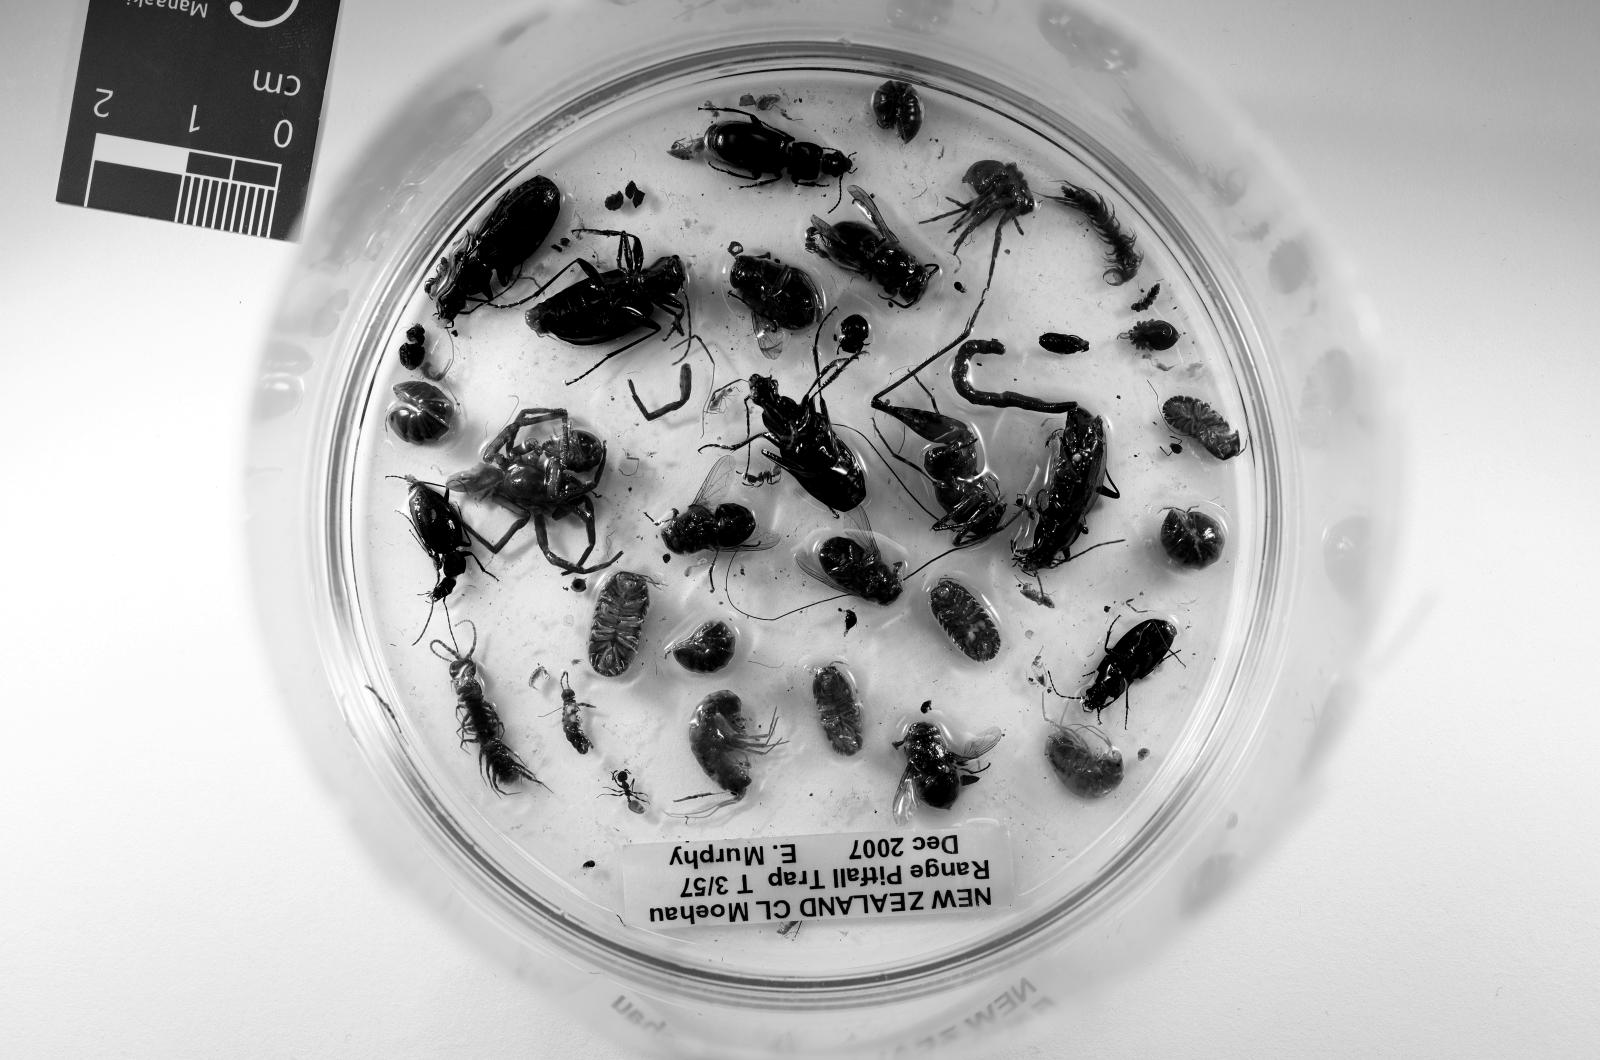acari: (582, 860, 597, 870), (953, 283, 966, 292)
amphipoda: (691, 690, 782, 816), (1047, 726, 1122, 799)
annelida: (950, 342, 1078, 413)
araneae: (447, 407, 618, 575), (950, 159, 1037, 289)
carabidae: (731, 348, 866, 512), (525, 230, 687, 360), (432, 177, 559, 329), (1016, 407, 1119, 575), (704, 111, 853, 187), (1084, 618, 1175, 717), (400, 481, 472, 606)
chilopoda: (428, 621, 544, 795), (1054, 180, 1144, 286)
coleoptera: (835, 314, 869, 354), (397, 323, 425, 369), (1037, 332, 1090, 354), (843, 612, 856, 631)
collembola: (1018, 584, 1056, 608), (669, 137, 704, 159), (706, 386, 731, 413), (529, 665, 546, 686)
diptera: (660, 457, 778, 556), (894, 720, 1003, 823), (793, 506, 903, 606), (728, 252, 822, 357), (919, 699, 931, 715)
formicidae: (613, 770, 647, 814), (425, 258, 451, 295), (744, 466, 782, 487)
isopoda: (588, 571, 650, 677), (931, 577, 1000, 661), (1162, 397, 1241, 459), (812, 665, 862, 755), (388, 382, 453, 444), (1159, 509, 1225, 568), (672, 621, 734, 674), (872, 80, 925, 143)
opiliones: (1119, 319, 1178, 351)
orthoptera: (872, 310, 1006, 547)
vespidae: (807, 187, 938, 308)
